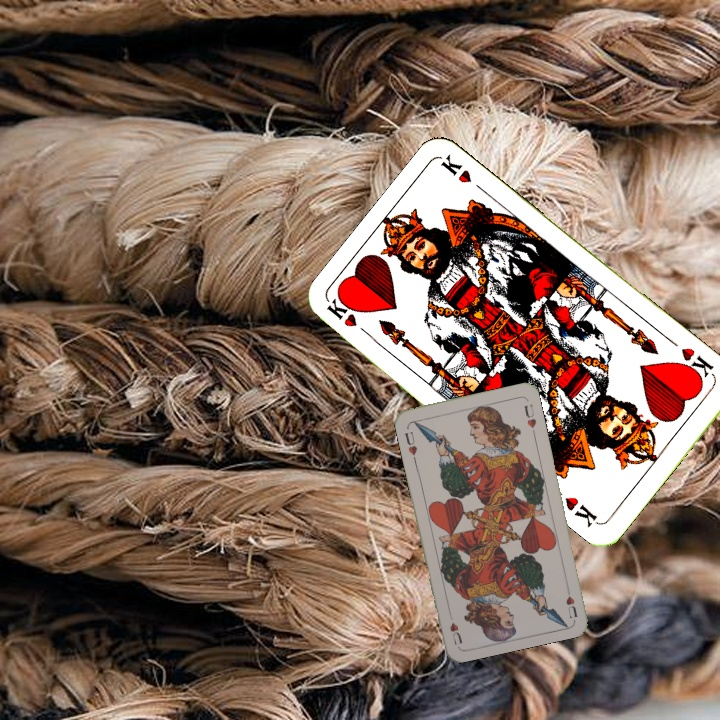HK: (323, 295, 376, 341), (674, 343, 717, 384)
HU: (562, 581, 580, 621), (401, 428, 420, 458)
